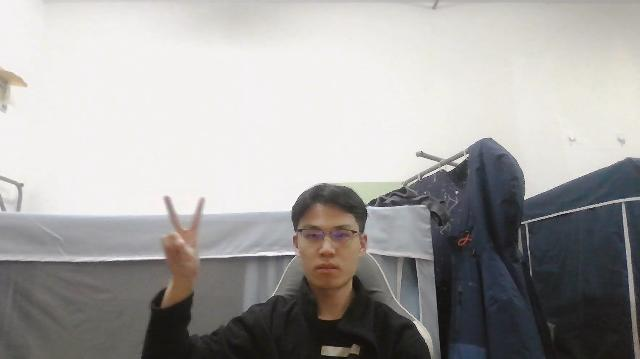two: (159, 195, 204, 277)
